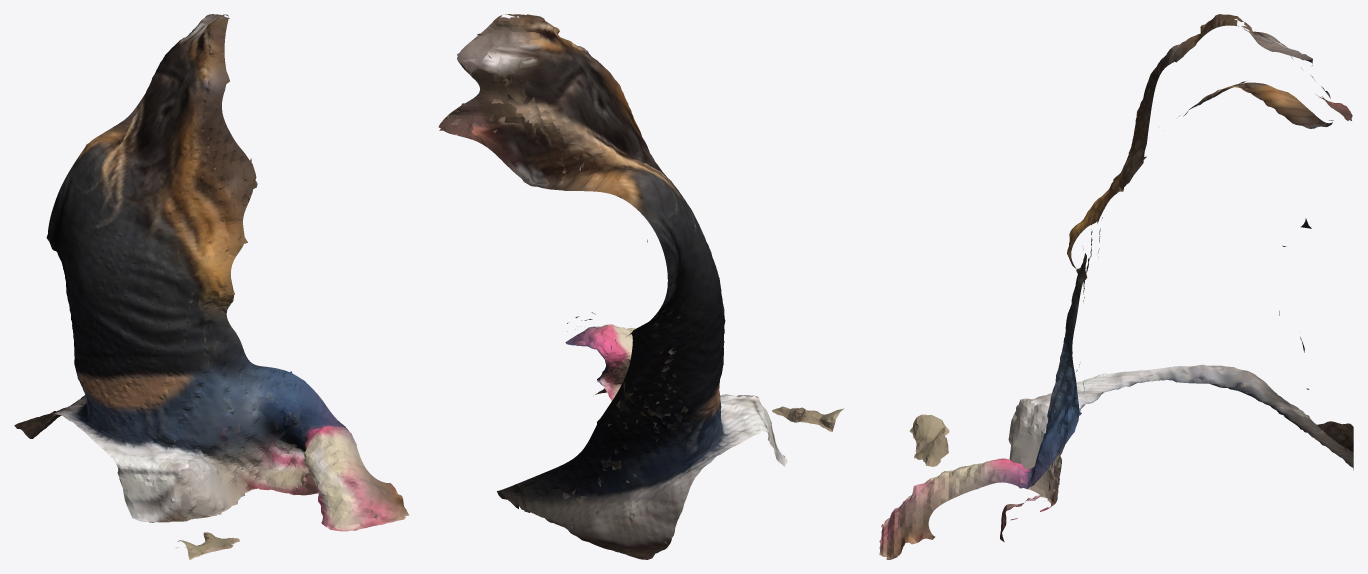
3 renders of one model, left to right at view 1: azimuth 30°, elevation 25°; view 2: azimuth 150°, elevation 25°; view 3: azimuth 270°, elevation 25°, orthographic. The views are drawn at different scales.
Size of the model in its own units: 0.4682 by 0.86 by 0.7265.
Materials: 1 (1 with a texture image).
